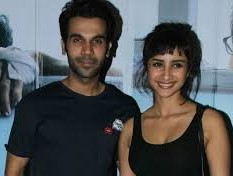Bad: (6, 1, 230, 176)
